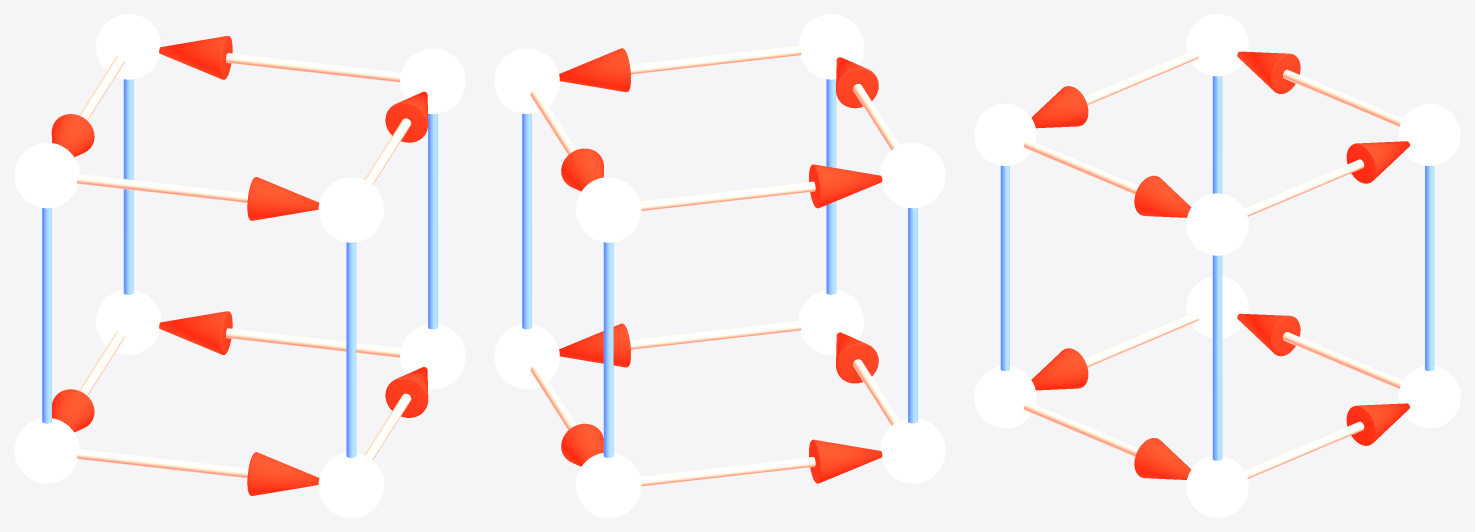
3 views of the same model, side by side, from view 1: azimuth 30°, elevation 25°; view 2: azimuth 150°, elevation 25°; view 3: azimuth 270°, elevation 25° (orthographic). The views are drawn at different scales.
Parts seen in each view (by area): view 1: Sphere1.0002, Sphere1.0001, Sphere1.010, Sphere1.009, Sphere1.0000, Sphere1.008, Sphere1.0003, Sphere1.011, Vertical.0001, Vertical.0003, Vertical.0000, Vertical.0002 (+16 smaller); view 2: Sphere1.0000, Sphere1.0001, Sphere1.008, Sphere1.009, Sphere1.0003, Sphere1.011, Sphere1.0002, Sphere1.010, Vertical.0003, Vertical.0000, Vertical.0002, Vertical.0001 (+16 smaller); view 3: Sphere1.0003, Sphere1.011, Sphere1.0000, Sphere1.0002, Sphere1.008, Sphere1.010, Sphere1.0001, Sphere1.009, Vertical.0002, Vertical.0001, Vertical.0003, Arrow1.0002 (+16 smaller).
Part boxes in pixels (x1,y1,x2,y2): Sphere1.0002: (318,177,383,242); Sphere1.0001: (14,142,79,208); Sphere1.010: (318,453,383,517); Sphere1.009: (14,418,79,483); Sphere1.0000: (96,14,161,79); Sphere1.008: (96,289,161,354); Sphere1.0003: (400,48,465,114); Sphere1.011: (400,324,465,389); Vertical.0001: (346,242,356,457); Vertical.0003: (123,79,133,294); Vertical.0000: (42,207,51,423); Vertical.0002: (428,113,437,329); Sphere1.0000: (576,177,641,242); Sphere1.0001: (880,142,945,208); Sphere1.008: (576,453,641,517); Sphere1.009: (880,418,945,483); Sphere1.0003: (494,48,559,113); Sphere1.011: (494,324,559,389); Sphere1.0002: (798,14,863,79); Sphere1.010: (798,289,863,354); Vertical.0003: (603,242,613,457); Vertical.0000: (908,207,917,423); Vertical.0002: (522,113,531,329); Vertical.0001: (826,79,836,294); Sphere1.0003: (1186,193,1248,255); Sphere1.011: (1186,456,1248,517); Sphere1.0000: (1398,103,1460,165); Sphere1.0002: (974,103,1036,165); Sphere1.008: (1398,366,1460,428); Sphere1.010: (974,366,1036,428); Sphere1.0001: (1186,14,1248,76); Sphere1.009: (1186,276,1248,338); Vertical.0002: (1212,255,1222,460); Vertical.0001: (1000,165,1009,370); Vertical.0003: (1425,165,1434,370); Arrow1.0002: (1134,175,1191,217).
Bounding box in the file's own units: 1.01 × 0.7296 × 1.01.
